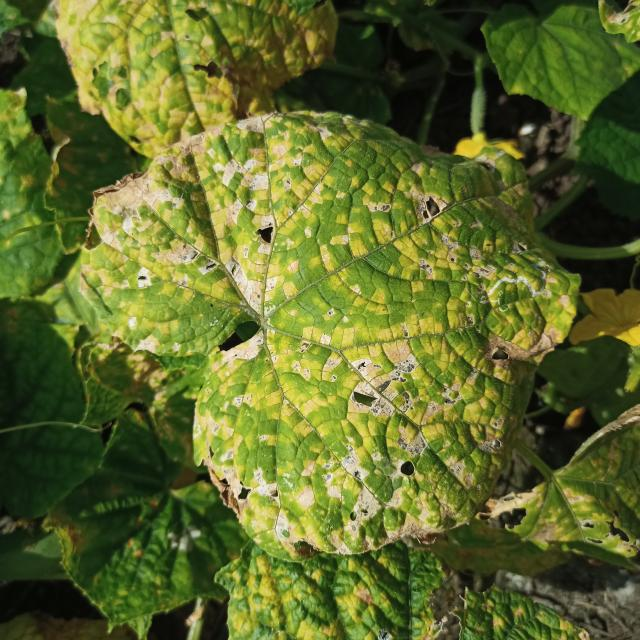disease_cucumber: (95, 111, 580, 548), (47, 0, 344, 142)
